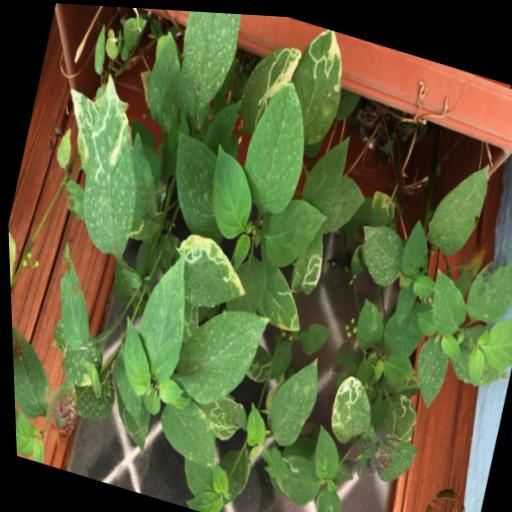Healthy: (197, 141, 263, 242), (477, 305, 512, 370)
Leaf_Miner: (63, 68, 166, 263), (274, 17, 356, 148), (160, 225, 254, 319), (229, 31, 305, 145), (320, 366, 378, 449), (66, 346, 122, 426), (250, 260, 311, 332), (53, 85, 103, 165), (284, 216, 331, 297), (205, 436, 254, 510), (267, 445, 323, 509), (192, 386, 250, 445), (103, 391, 153, 454), (372, 382, 420, 441), (348, 291, 388, 352), (365, 182, 399, 227), (240, 339, 273, 384), (305, 482, 342, 512), (175, 299, 202, 337), (126, 211, 147, 243)
